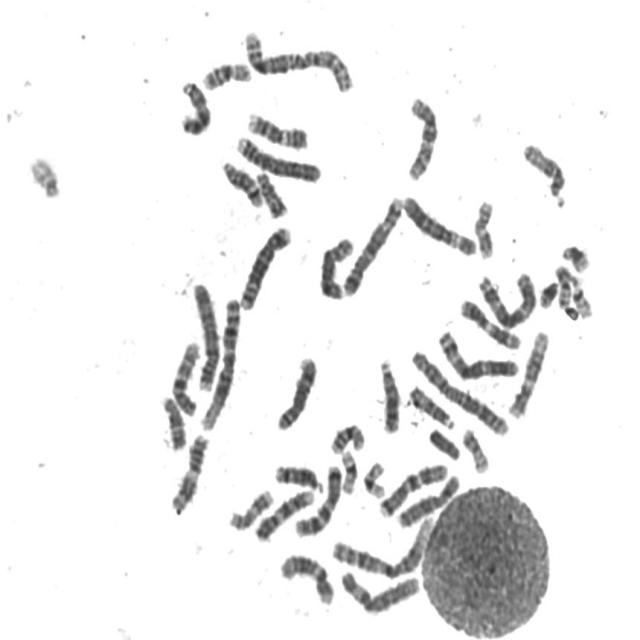A1: (329, 510, 435, 580), (196, 291, 243, 433)
A2: (407, 343, 511, 438), (240, 24, 356, 95)
A3: (434, 325, 522, 381), (474, 265, 539, 329)
B4: (231, 130, 323, 184), (188, 275, 221, 393)
B5: (338, 190, 404, 298), (235, 220, 294, 312)
C10: (402, 90, 440, 182), (168, 334, 202, 418)
C11: (456, 293, 524, 351), (167, 429, 210, 515)
C12: (504, 325, 552, 420), (276, 547, 336, 606)
C6: (398, 189, 479, 258), (336, 564, 421, 616)
C7: (374, 456, 452, 519), (290, 458, 343, 538)
C8: (272, 350, 320, 432), (315, 230, 356, 302)
C9: (251, 484, 315, 544), (243, 106, 310, 150)
D13: (176, 76, 213, 136), (375, 353, 402, 435)
D14: (217, 155, 264, 209), (271, 459, 325, 494)
D15: (518, 137, 568, 208), (404, 379, 457, 431)
E16: (199, 56, 253, 92), (326, 418, 367, 456)
E17: (225, 483, 275, 532), (470, 194, 497, 261)
E18: (252, 166, 290, 220), (157, 390, 189, 451)
F19: (358, 456, 388, 500), (336, 445, 359, 496)
F20: (458, 422, 492, 475), (551, 260, 574, 309)
G21: (558, 238, 592, 273), (535, 274, 561, 310)
G22: (25, 150, 63, 200), (568, 280, 595, 319)
X: (394, 468, 462, 530)
Y: (425, 422, 462, 461)
